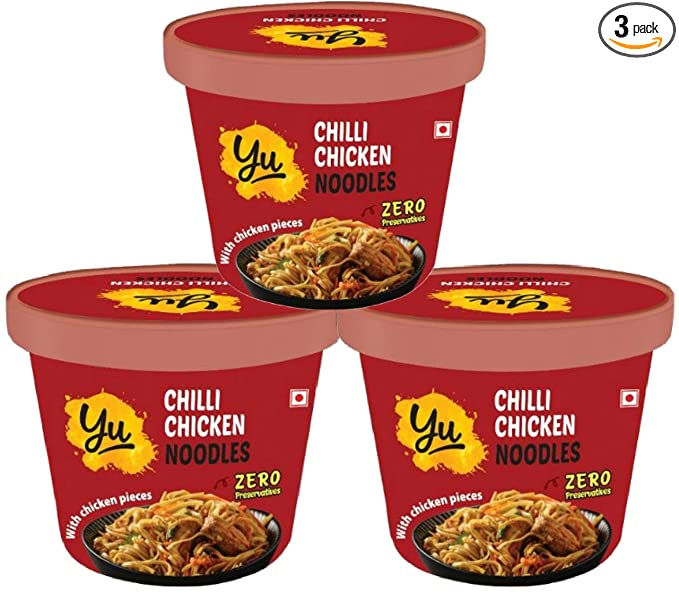non_veg: (619, 389, 641, 420), (435, 121, 457, 151), (289, 388, 312, 411)
